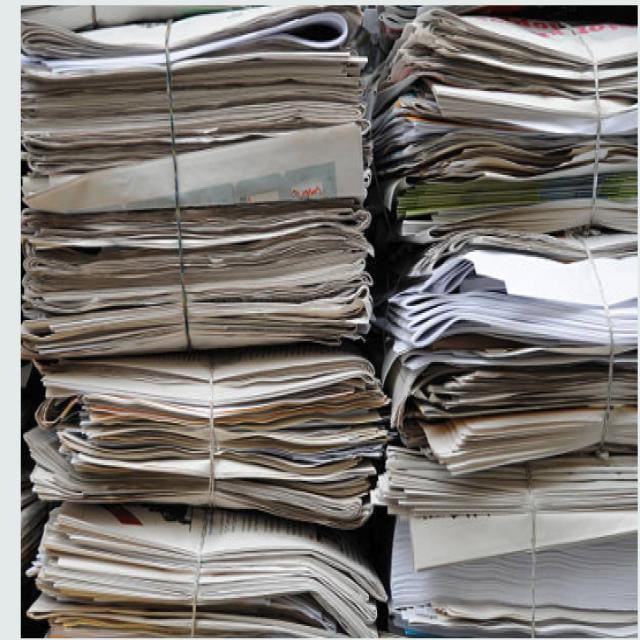Koran: (22, 3, 640, 640)
